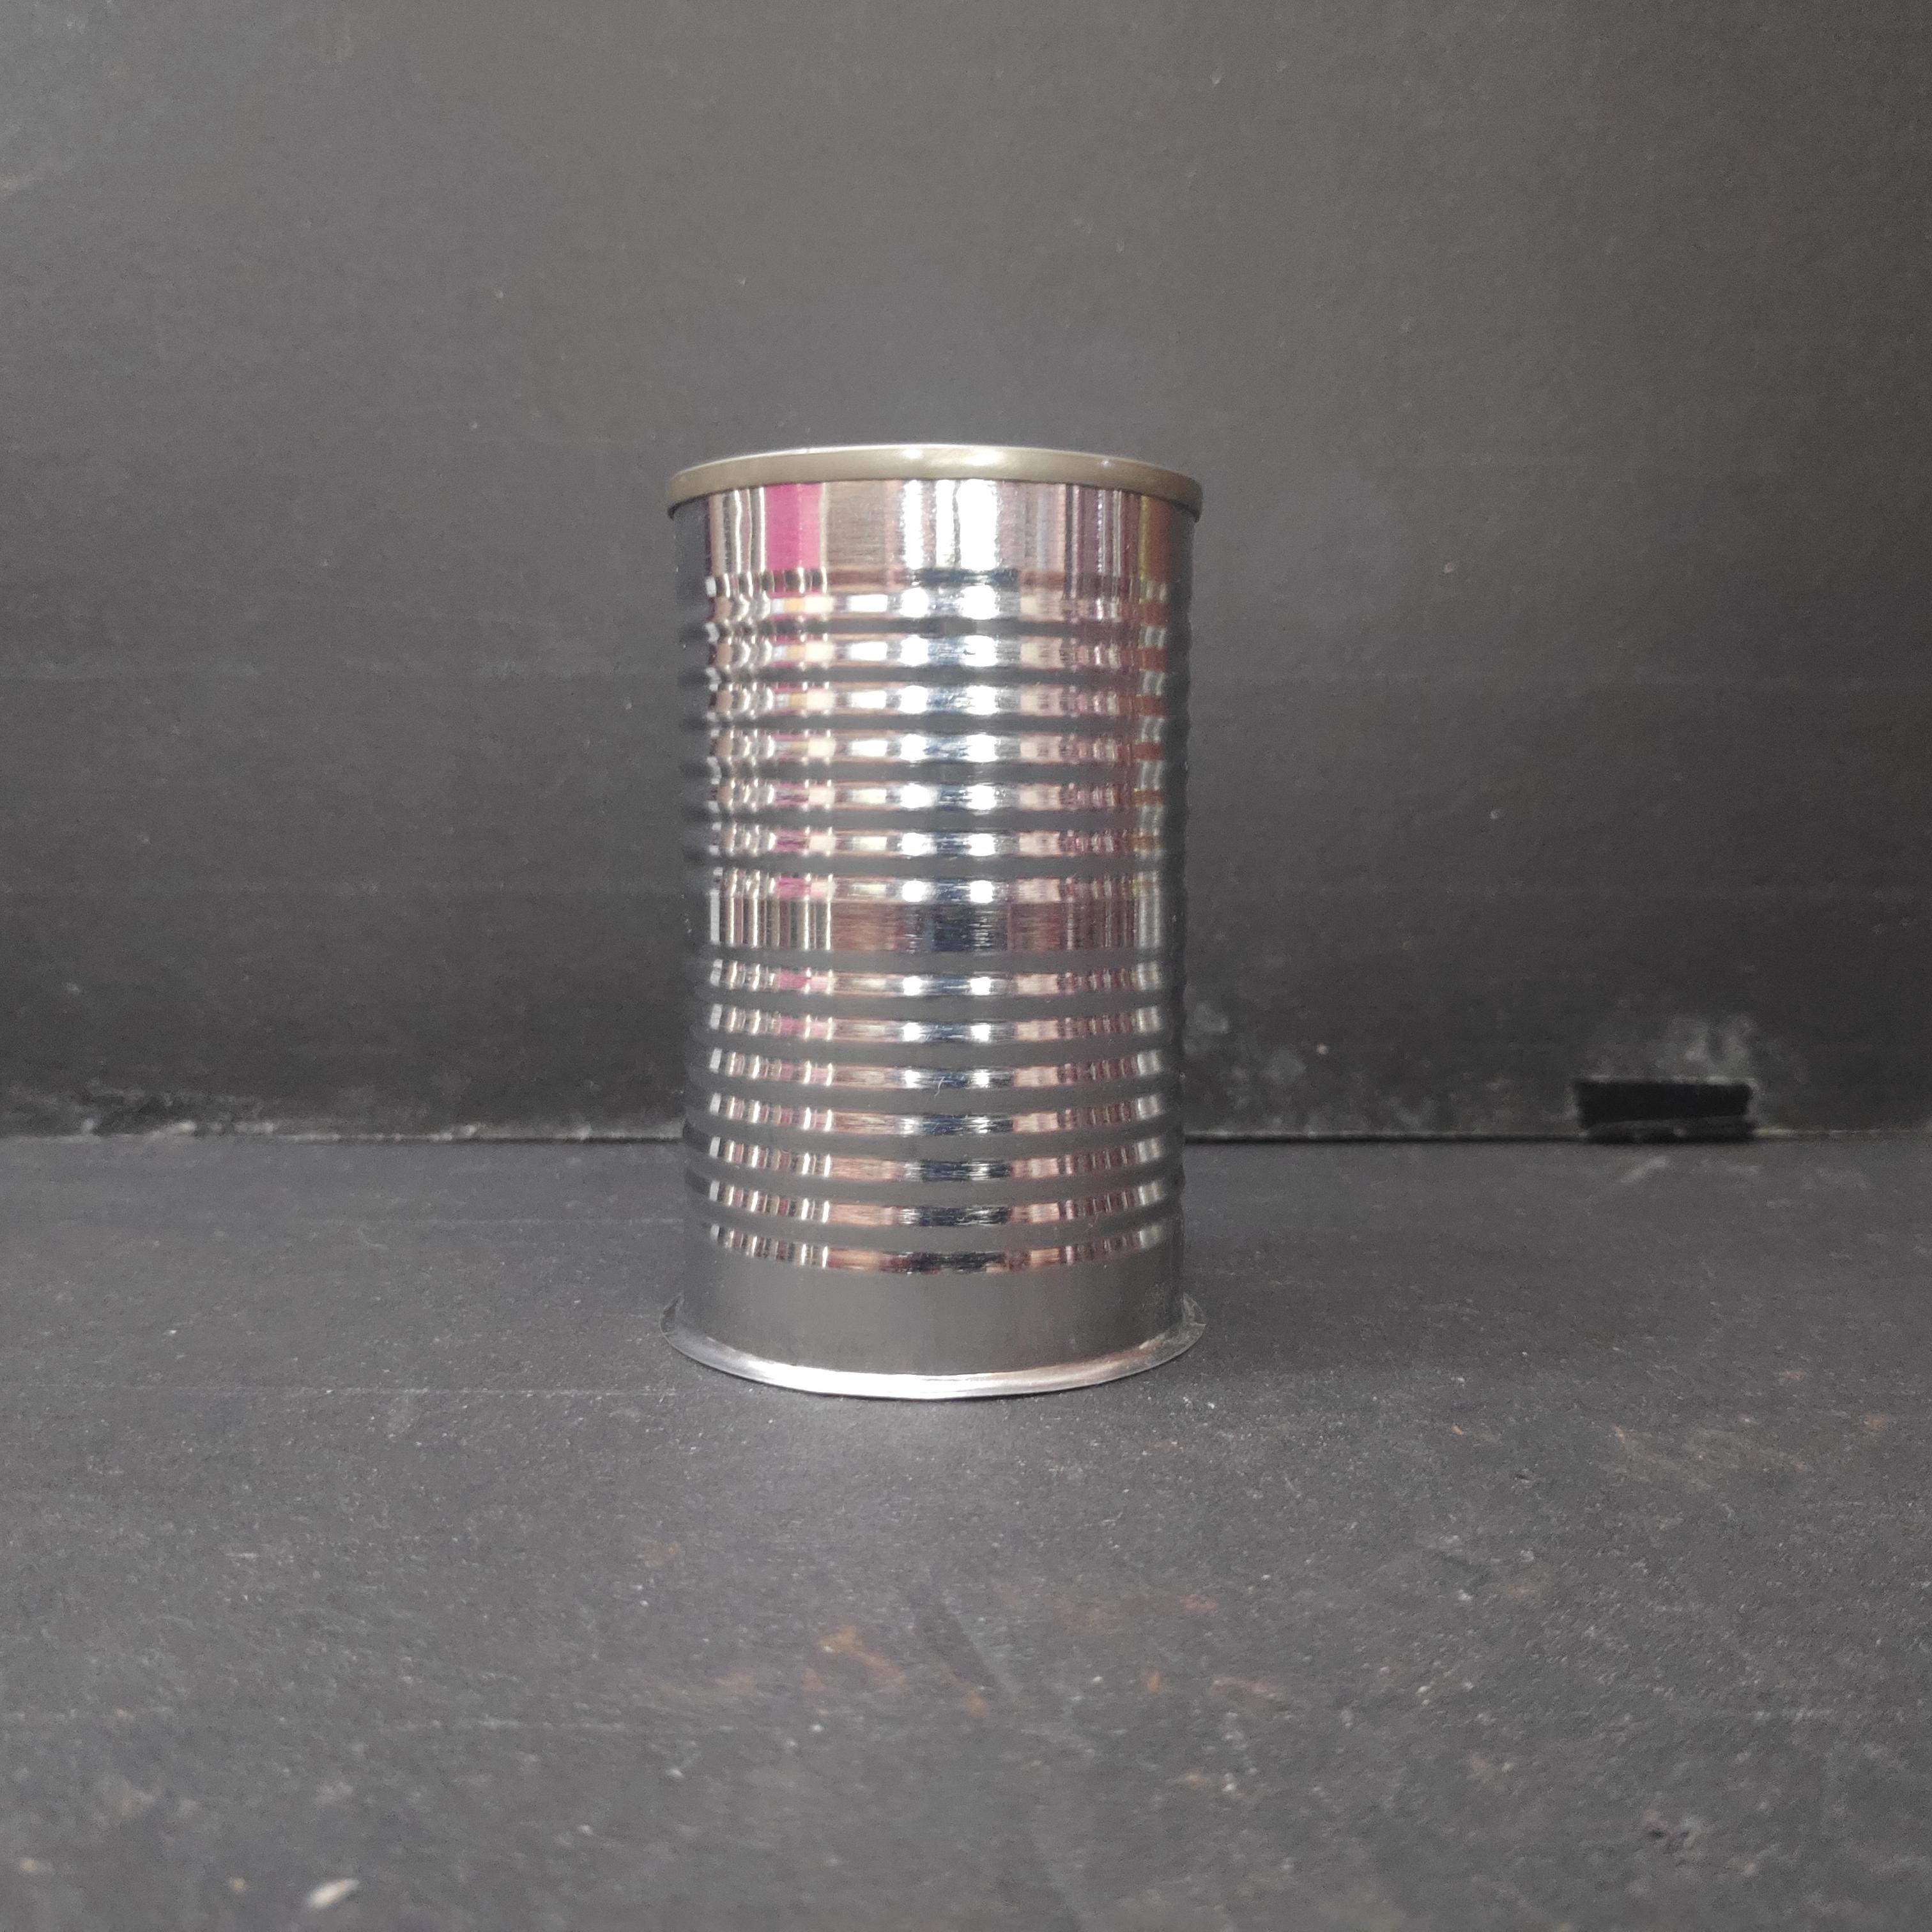No defect: (656, 438, 1207, 1411)
